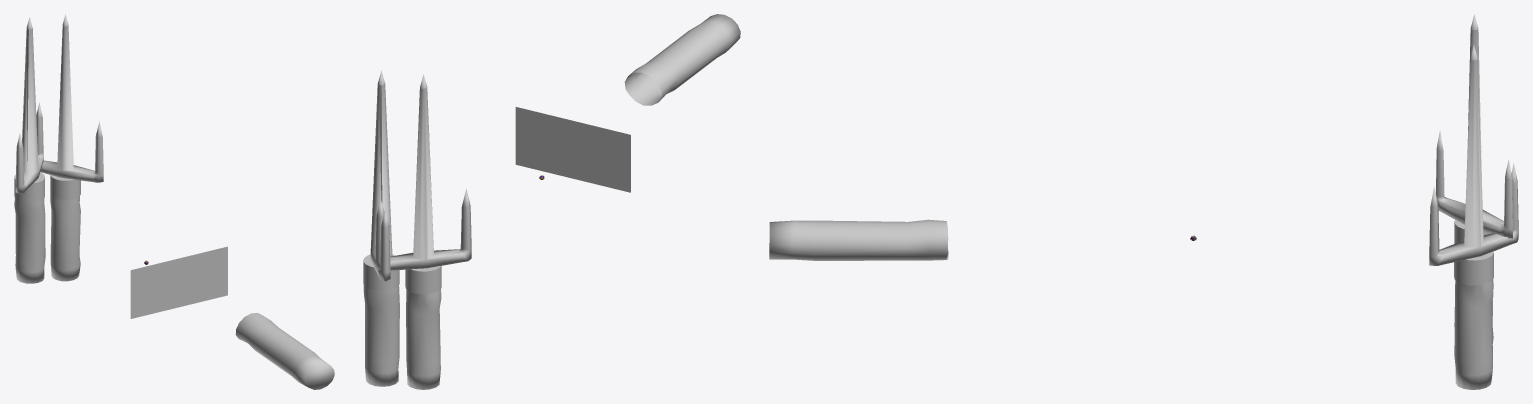
The model's file is tmnt head.fbx.
The picture shows the model from 3 angles, left to right: view 1: azimuth 30°, elevation 25°; view 2: azimuth 150°, elevation 25°; view 3: azimuth 270°, elevation 25°; orthographic projection. The views are drawn at different scales.
Parts seen in each view (by area): view 1: Plane001, Sai001, Bo staff_LP006, Sai, Bo staff_LP004, Bo staff_LP005; view 2: Plane001, Sai, Bo staff_LP006, Sai001, Bo staff_LP005, Bo staff_LP004; view 3: Bo staff_LP006, Sai001, Bo staff_LP005, Sai.
Boxes of the visible parts, <box> form: Plane001: <box>130,246,227,318</box>; Sai001: <box>40,14,103,200</box>; Bo staff_LP006: <box>235,313,334,389</box>; Sai: <box>14,17,44,202</box>; Bo staff_LP004: <box>14,198,45,283</box>; Bo staff_LP005: <box>50,194,80,281</box>; Plane001: <box>515,107,630,192</box>; Sai: <box>375,74,471,294</box>; Bo staff_LP006: <box>624,14,740,105</box>; Sai001: <box>363,70,399,290</box>; Bo staff_LP005: <box>363,285,399,386</box>; Bo staff_LP004: <box>406,289,441,389</box>; Bo staff_LP006: <box>769,219,948,260</box>; Sai001: <box>1429,45,1518,285</box>; Bo staff_LP005: <box>1454,280,1493,389</box>; Sai: <box>1436,14,1512,243</box>.
Bounding box in the file's own units: 162 × 424 × 831.
